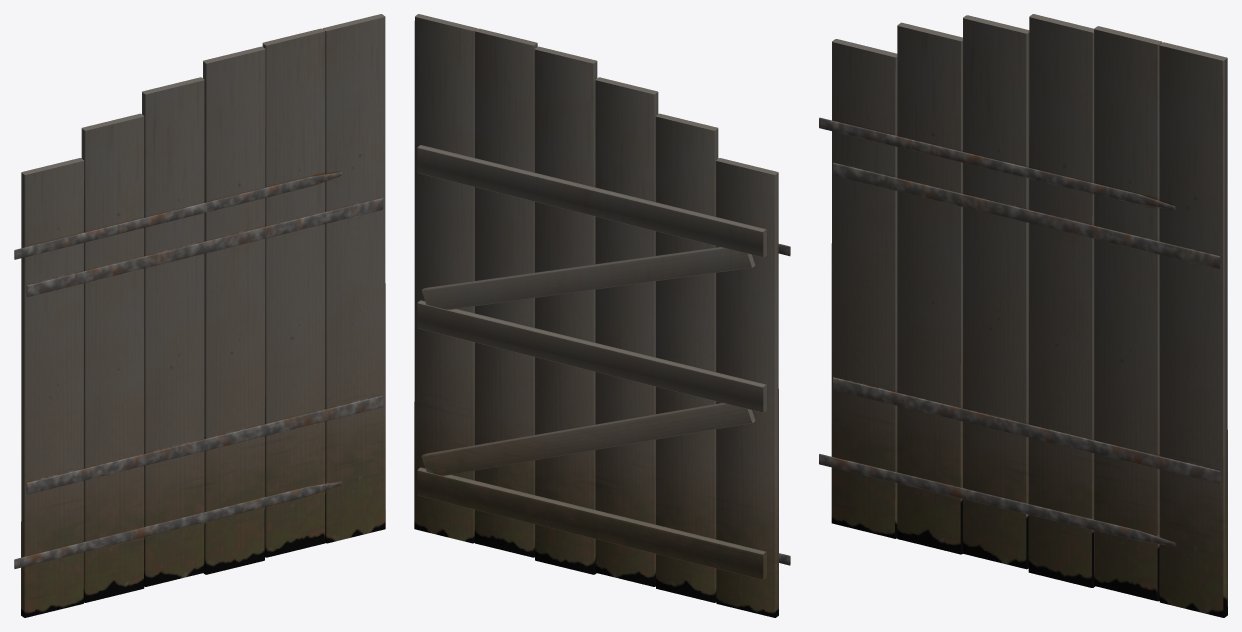
File: SM_SiegeGate_LeafL.fbx
The picture shows the model from 3 angles, left to right: view 1: azimuth 30°, elevation 25°; view 2: azimuth 150°, elevation 25°; view 3: azimuth 330°, elevation 25°; orthographic projection. The views are drawn at different scales.
Parts seen in each view (by area): view 1: SM_SiegeGate_LeafL; view 2: SM_SiegeGate_LeafL; view 3: SM_SiegeGate_LeafL.
Part boxes in pixels (bbox=[...]): SM_SiegeGate_LeafL: bbox=[14, 14, 385, 617]; SM_SiegeGate_LeafL: bbox=[414, 14, 790, 617]; SM_SiegeGate_LeafL: bbox=[819, 14, 1227, 617].
Size of the model in its own units: 296 by 13.23 by 391.
